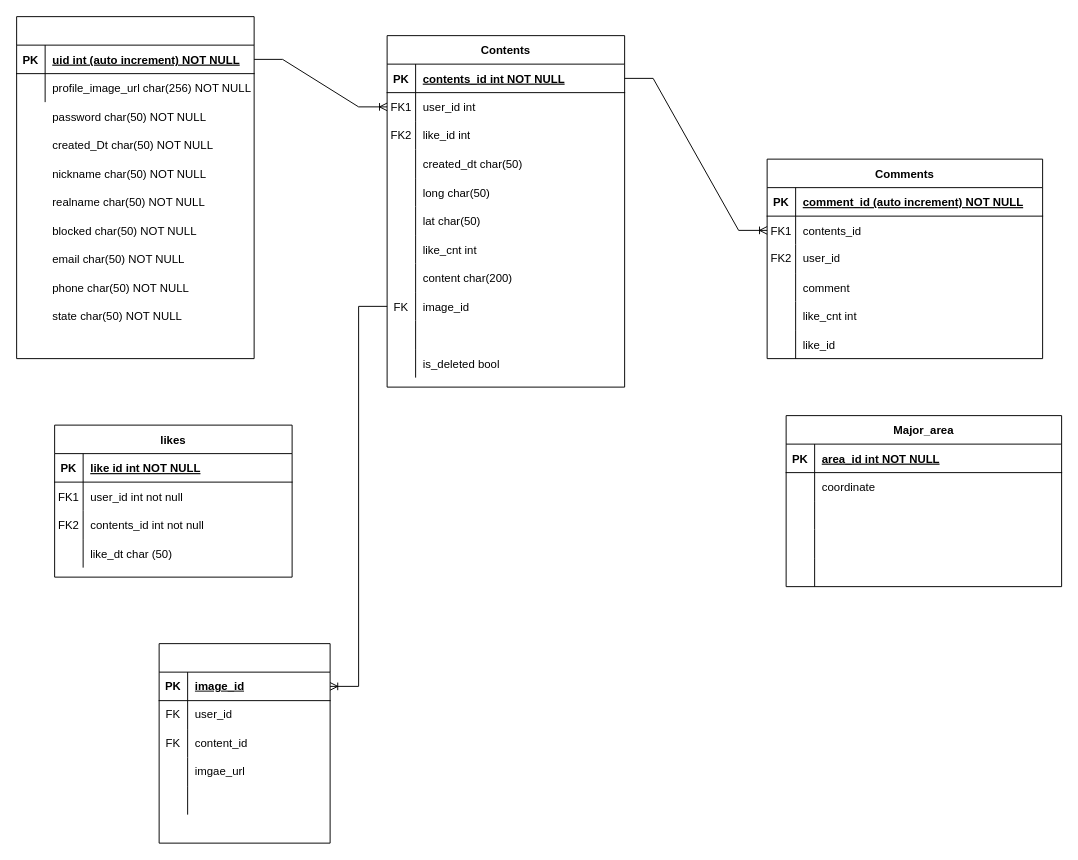
Image size: 1078x860. Some labels were removed from this diagram. The box of each missing label's shape, as (x1, y1, x2, y2) in pixels:
Images: (158, 643, 330, 843)
Users: (16, 16, 254, 359)
